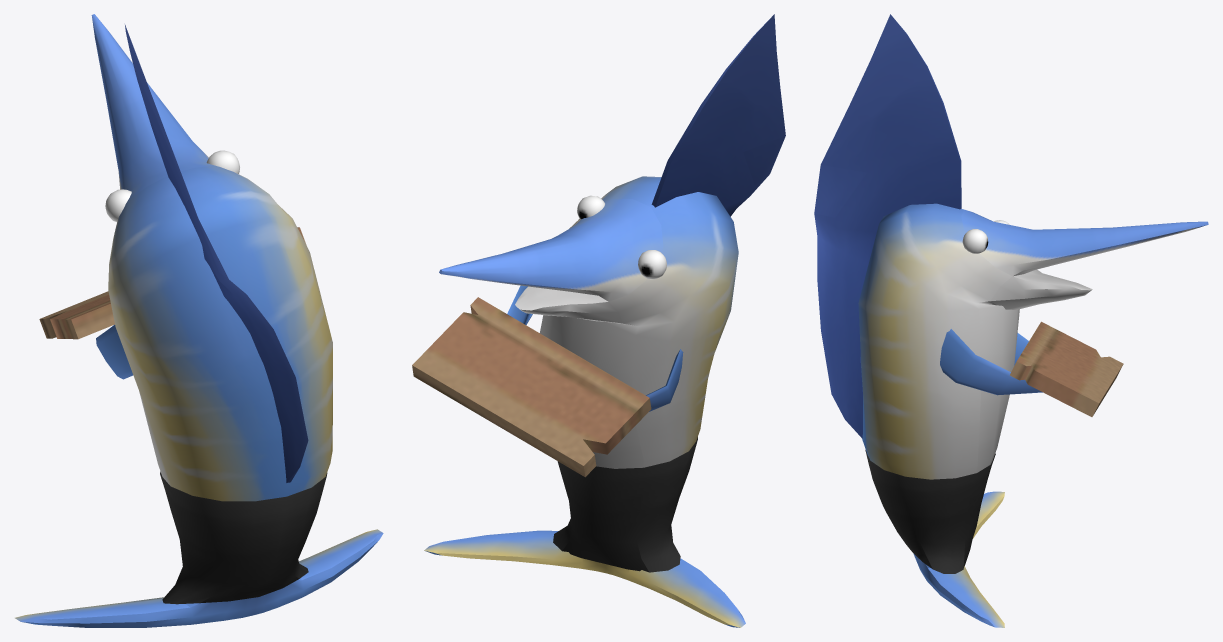
The model's file is kajiki_idle_c_03.fbx.
3 views of the same model, side by side, from view 1: azimuth 30°, elevation 25°; view 2: azimuth 150°, elevation 25°; view 3: azimuth 270°, elevation 25° (orthographic). The views are drawn at different scales.
Visible parts, largest first — view 1: I_c_03; view 2: I_c_03; view 3: I_c_03.
Boxes of the visible parts, <box> form: I_c_03: <box>15,14,383,627</box>; I_c_03: <box>412,14,785,627</box>; I_c_03: <box>814,14,1208,627</box>.
Size of the model in its own units: 1.46 by 2.48 by 1.79.
Materials: 1 (1 with a texture image).
